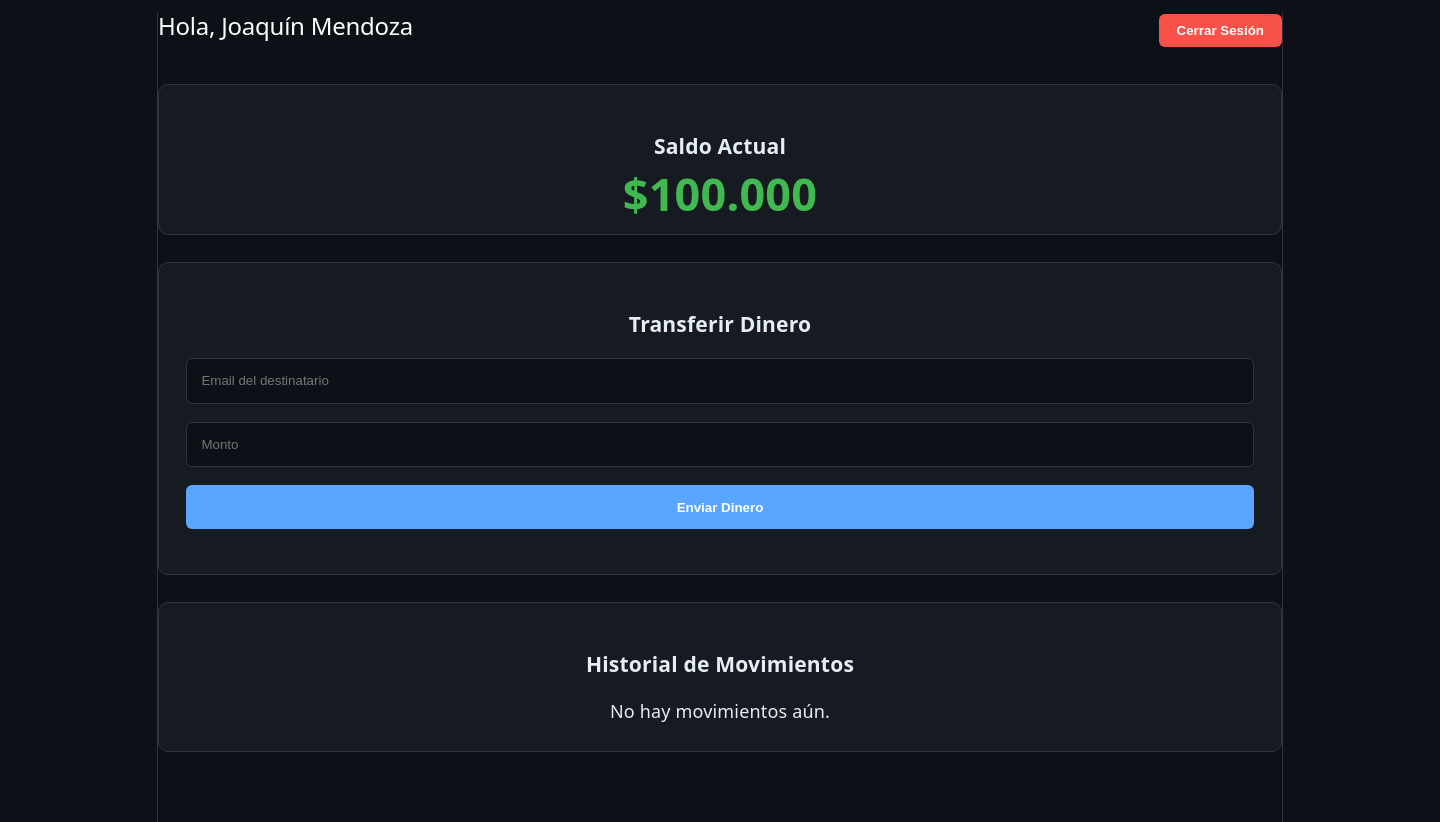
Test: Dashboard Component › procesa la transferencia correctamente con datos válidos
Type "amigo@banco.cl" into the field with placeholder "Email del destinatario" at (720, 381), box [186,358,1254,404]
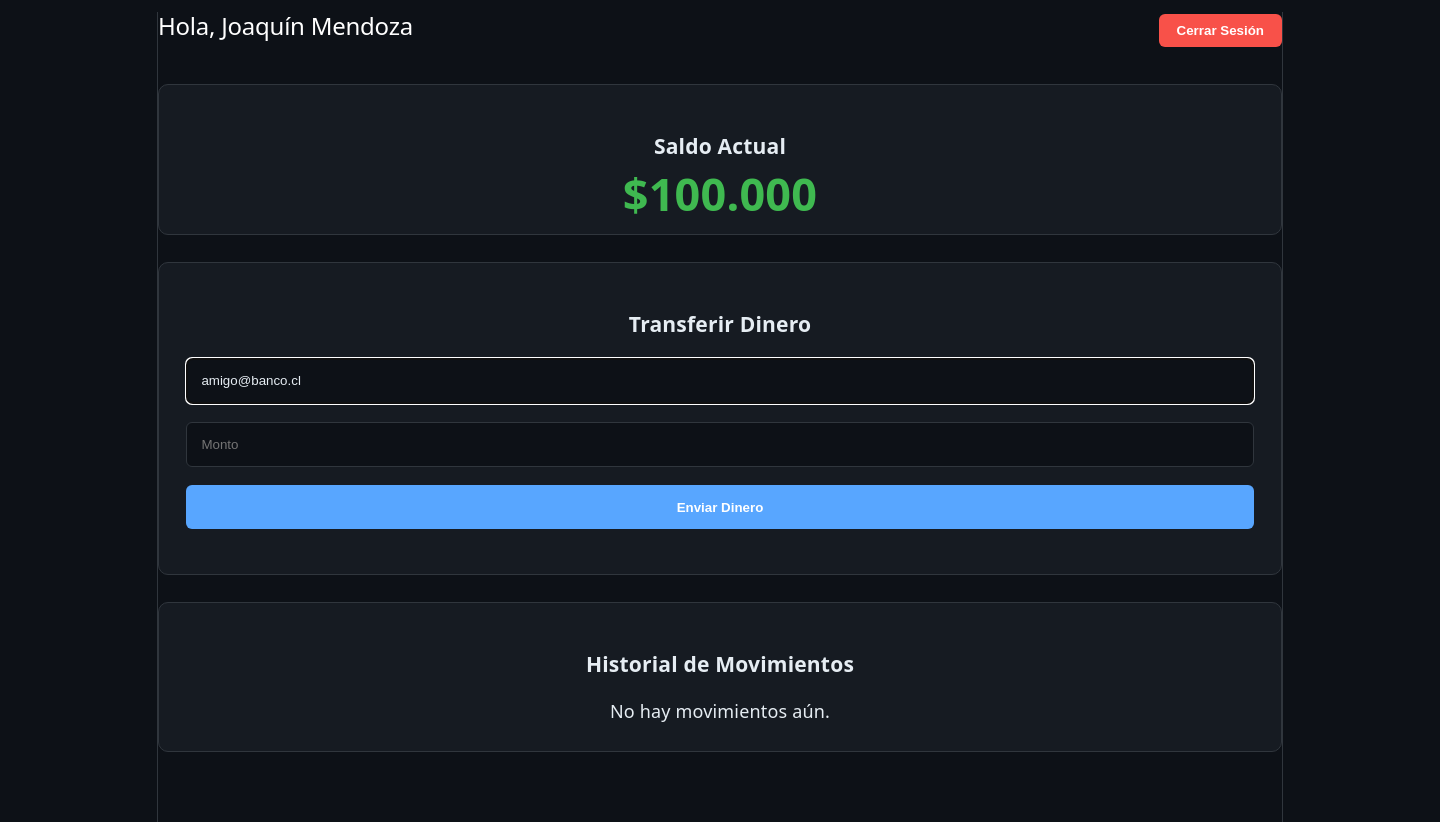
Type "50000" into the number field with placeholder "Monto" at (720, 444), box [186,422,1254,467]
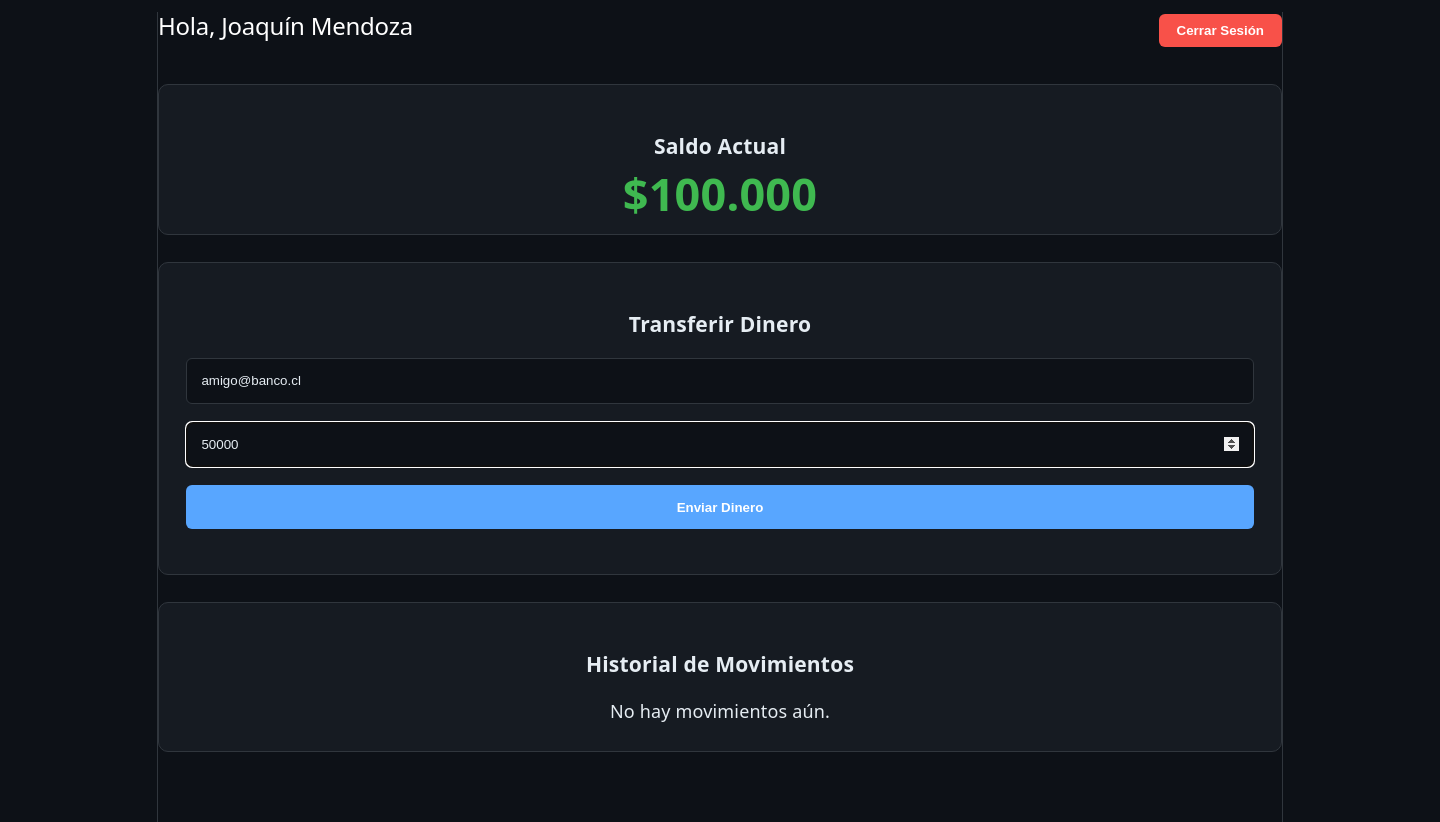
Click the button "Enviar Dinero" at (720, 507), box [186,485,1254,529]
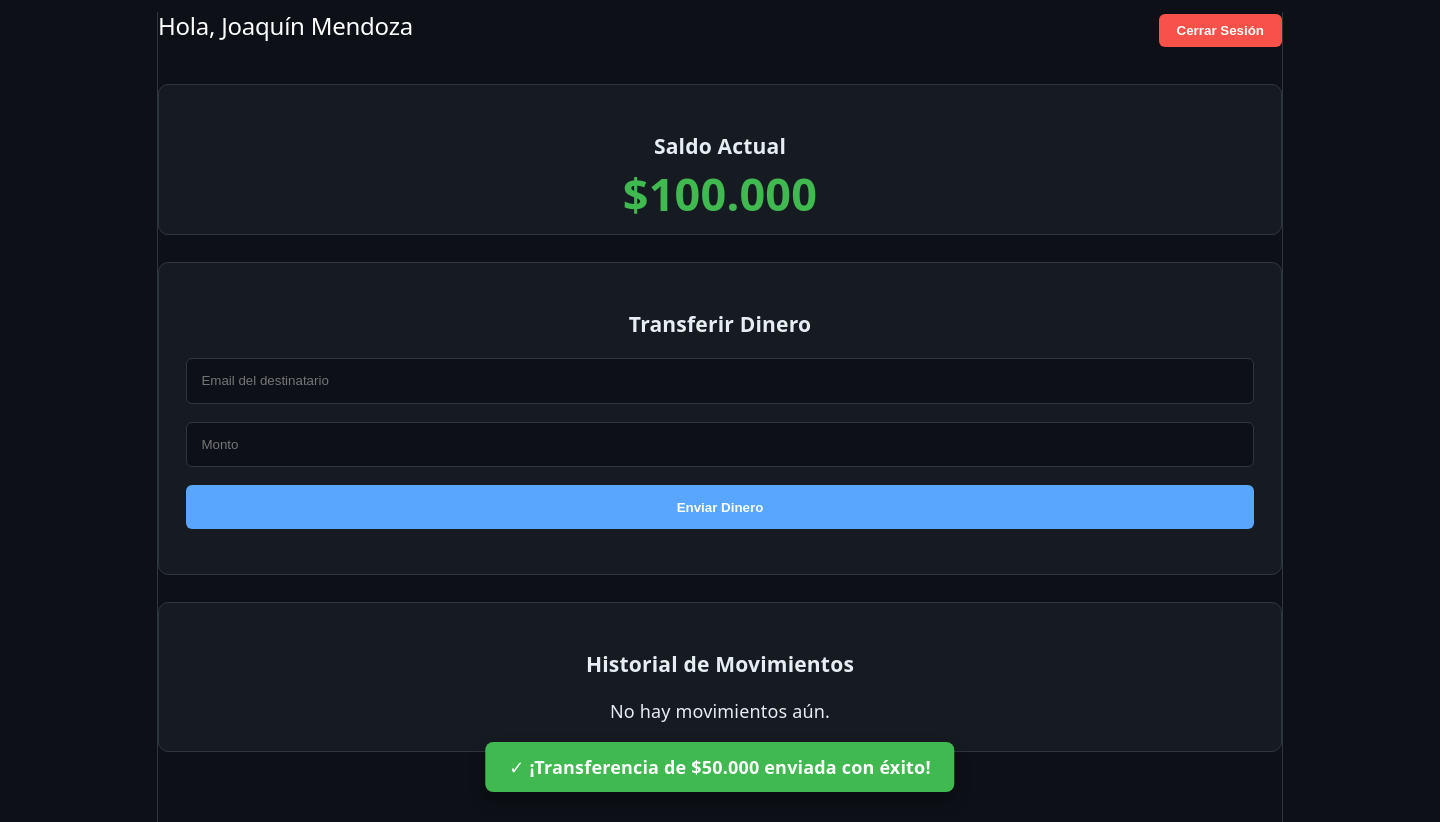
Expected: the text "✓ ¡Transferencia de $50.000 enviada con éxito!" is shown, [485,742,955,792]
